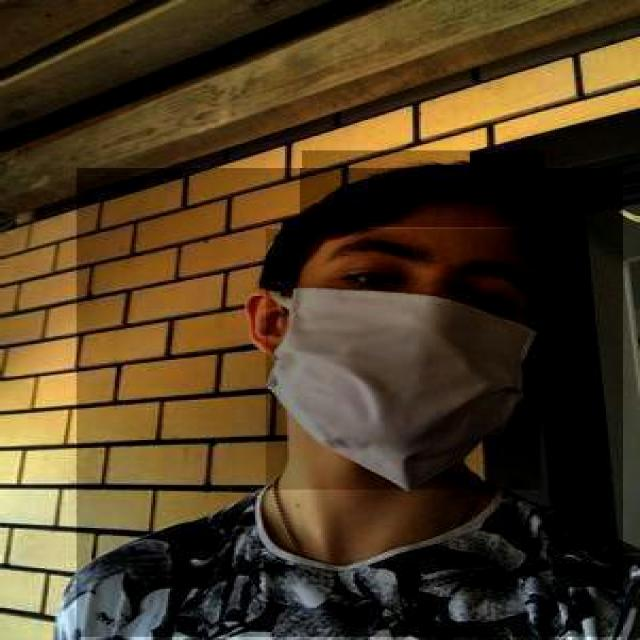face_mask: (266, 228, 540, 490)
head_nohelmet: (300, 150, 544, 228)
person: (74, 168, 623, 638)
